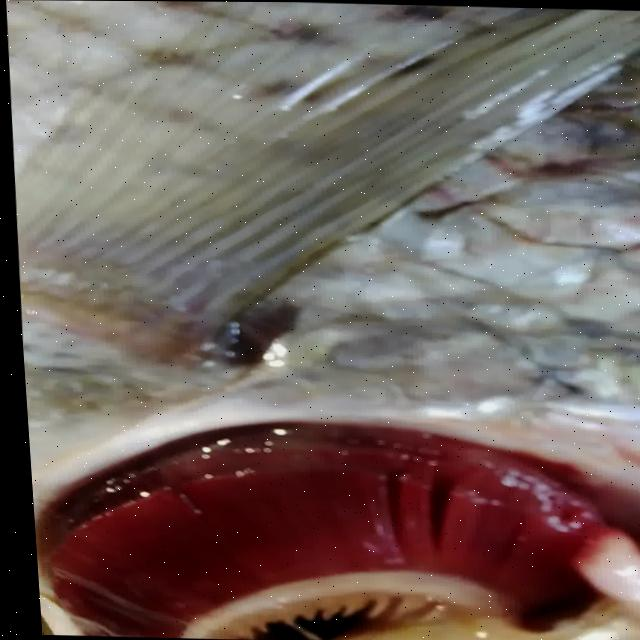Fresh: (20, 388, 640, 640)
